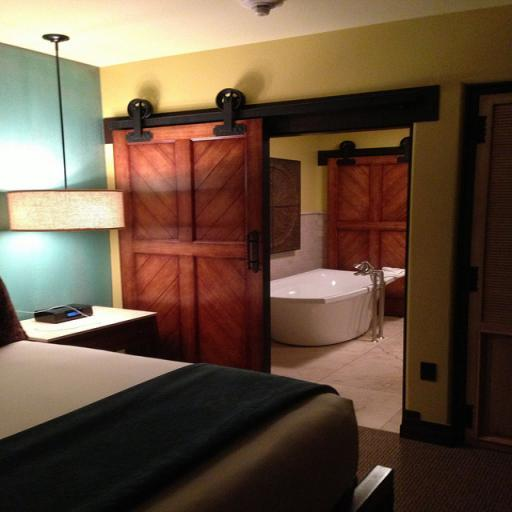bed: (10, 298, 442, 512)
